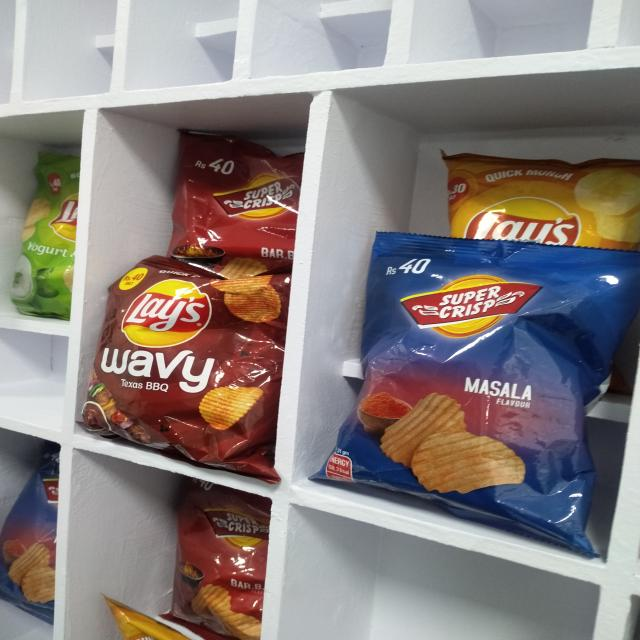Plastic: (331, 245, 638, 536), (89, 262, 286, 473), (442, 150, 636, 237), (175, 128, 303, 256), (170, 478, 264, 640), (10, 144, 80, 317), (2, 440, 58, 627)
